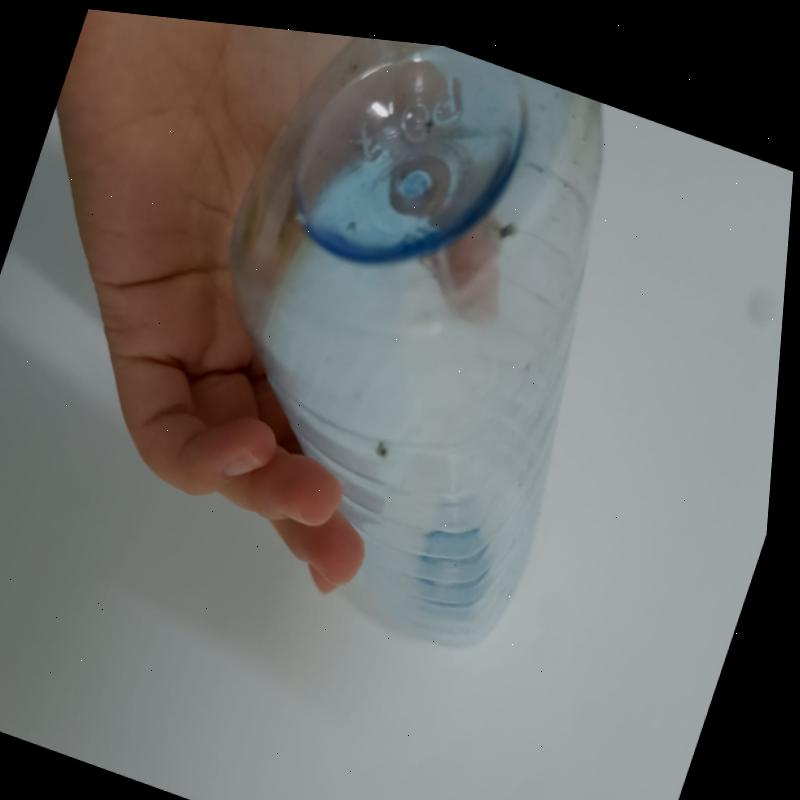botella: (119, 13, 680, 689)
